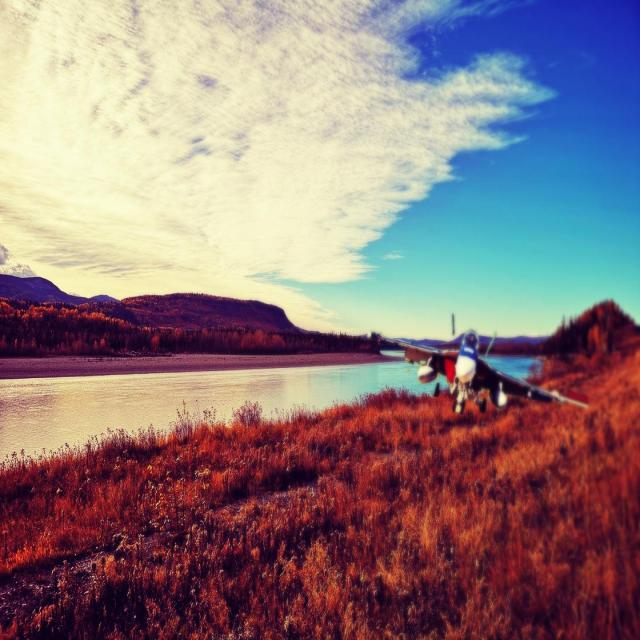airplane: (371, 324, 589, 415)
